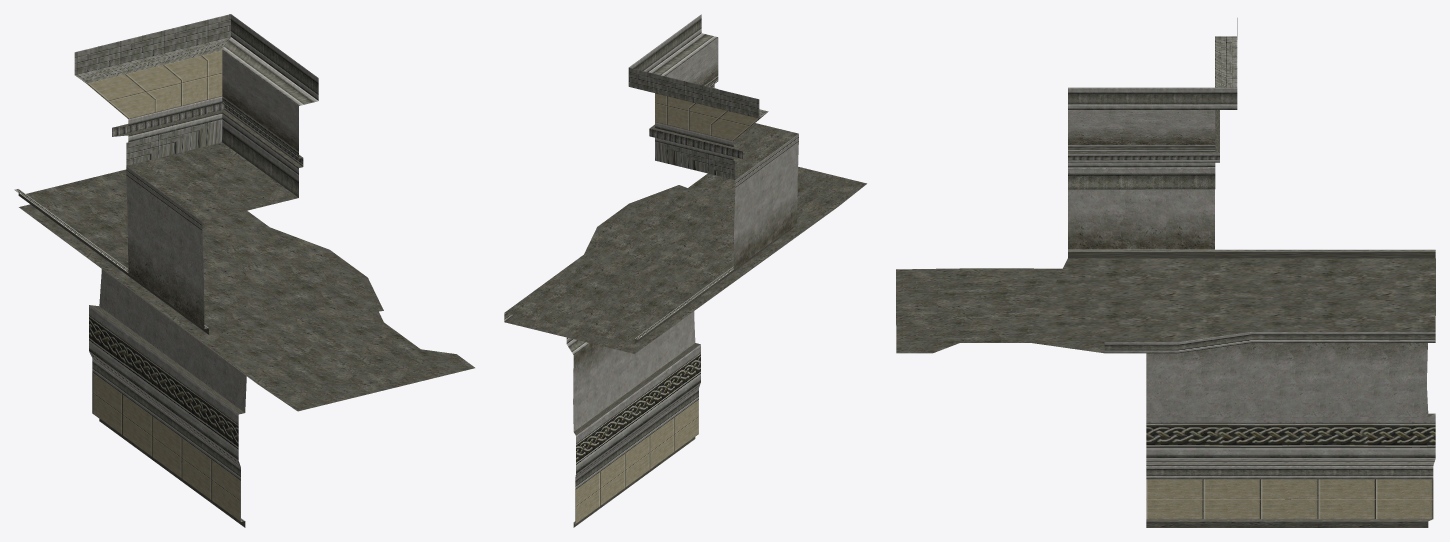
The model's file is DWARF_PALACE_GEAR_ROOM_WALL04A.fbx.
3 views of the same model, side by side, from view 1: azimuth 30°, elevation 25°; view 2: azimuth 150°, elevation 25°; view 3: azimuth 270°, elevation 25° (orthographic). The views are drawn at different scales.
Visible parts, largest first — view 1: DWARF_PALACE_GEAR_ROOM_WALL04A; view 2: DWARF_PALACE_GEAR_ROOM_WALL04A; view 3: DWARF_PALACE_GEAR_ROOM_WALL04A.
Part boxes in pixels (box(x1,y1,x2,y2)): DWARF_PALACE_GEAR_ROOM_WALL04A: box(14, 14, 474, 527); DWARF_PALACE_GEAR_ROOM_WALL04A: box(504, 14, 866, 527); DWARF_PALACE_GEAR_ROOM_WALL04A: box(896, 18, 1435, 527).
Bounding box in the file's own units: 102186 × 205000 × 220003.
8 materials, 8 textured.
